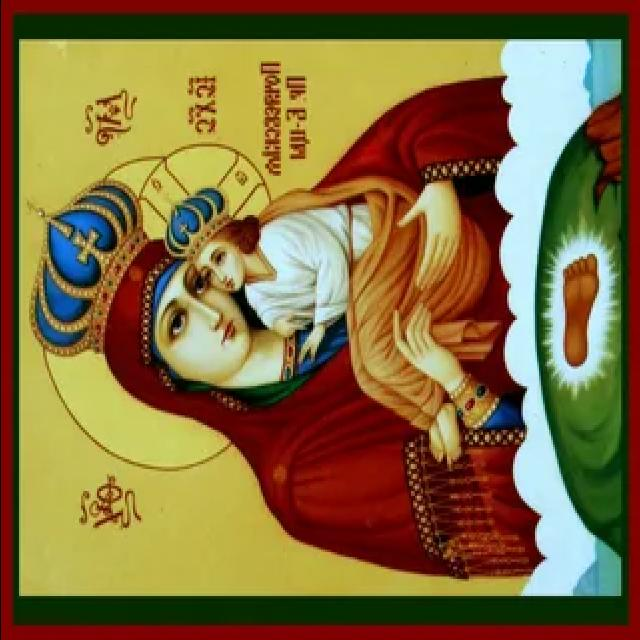mother of god: (92, 69, 564, 583)
